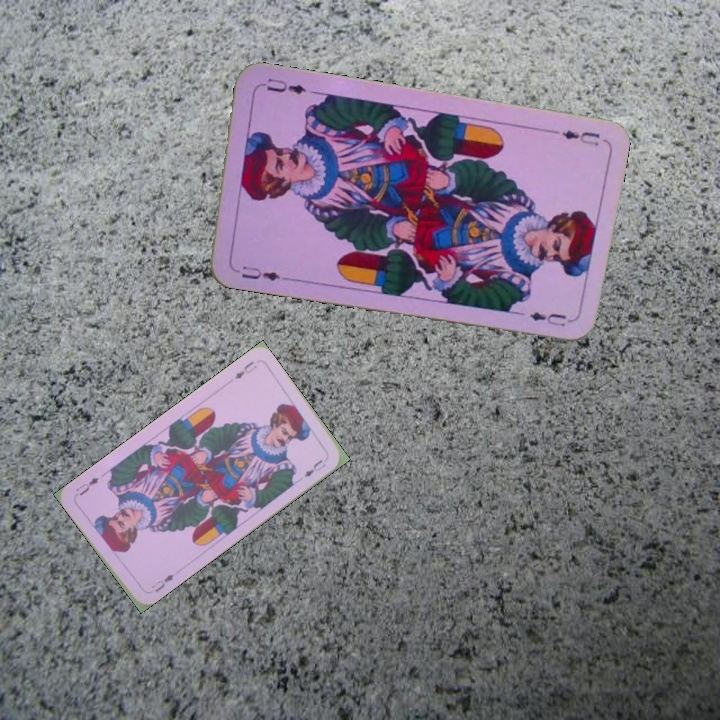EU: (229, 261, 288, 284), (558, 126, 603, 149), (144, 570, 176, 597), (231, 357, 259, 381)
